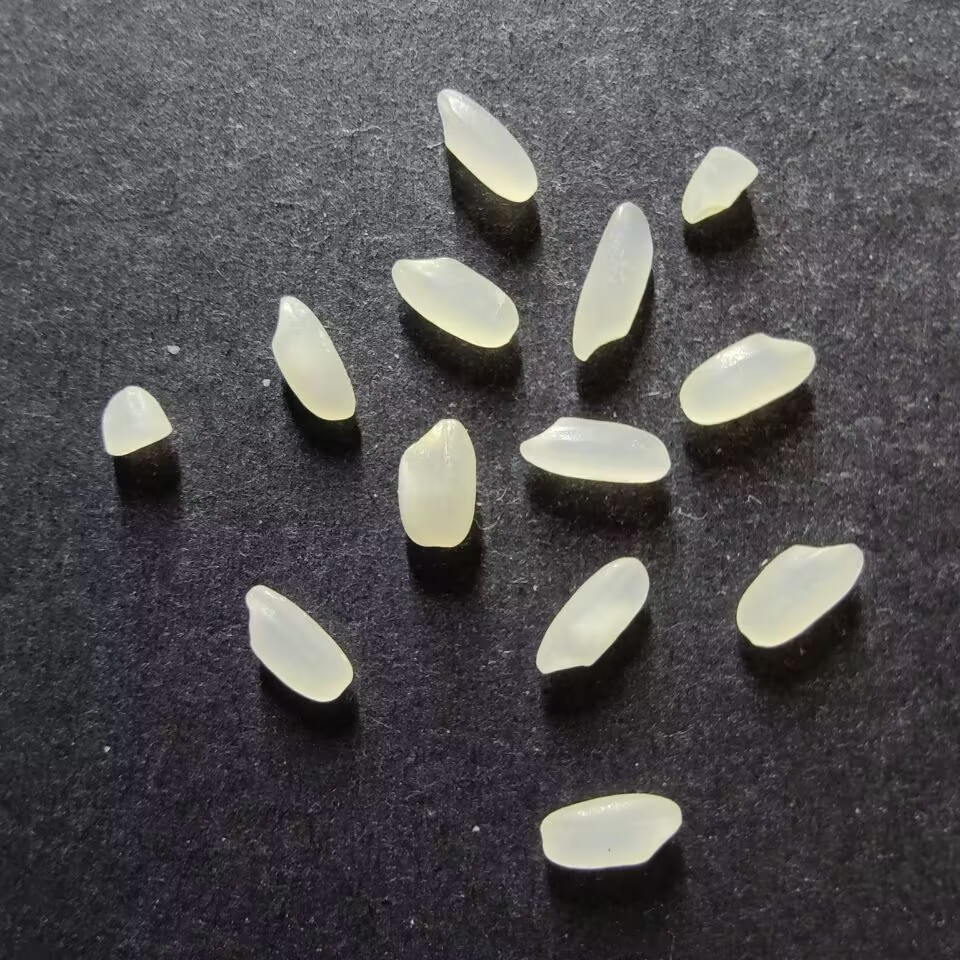broken: (680, 144, 758, 224), (101, 385, 172, 457)
rice: (534, 556, 649, 675), (735, 543, 865, 648), (571, 201, 654, 361), (679, 330, 816, 425), (244, 584, 353, 703), (391, 255, 518, 349), (435, 88, 538, 202), (540, 793, 683, 870), (270, 294, 356, 421), (396, 417, 477, 549), (518, 415, 670, 484)
